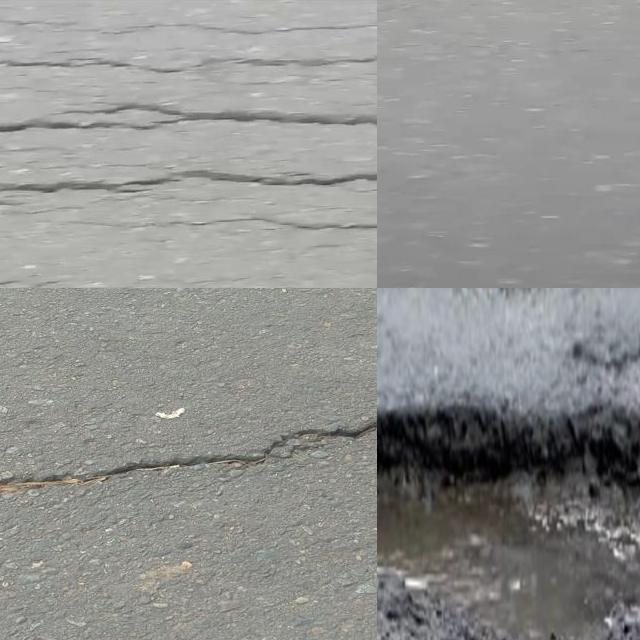Lubang: (377, 411, 640, 640)
Melintang: (0, 406, 377, 507), (0, 155, 377, 244), (0, 92, 377, 149)
